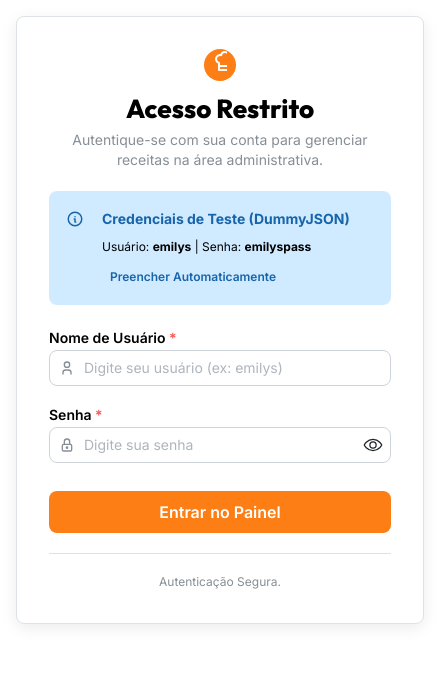
Test case: LoginPage Component › exibe mensagens de validação ao tentar submeter formulário em branco
The width and height of the screenshot is (441, 682).
Click the button "Entrar no Painel": coordinates (220, 512) [49,491,391,533]
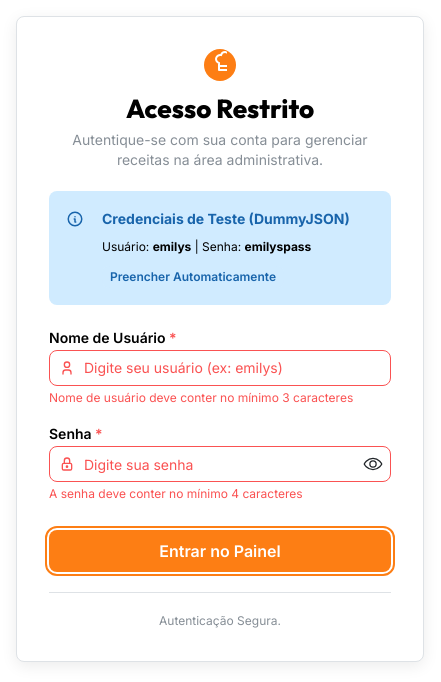
Now the text "Nome de usuário deve conter no mínimo 3 caracteres" is shown, box [49,391,391,405]
Now the text "A senha deve conter no mínimo 4 caracteres" is shown, box [49,486,303,501]
